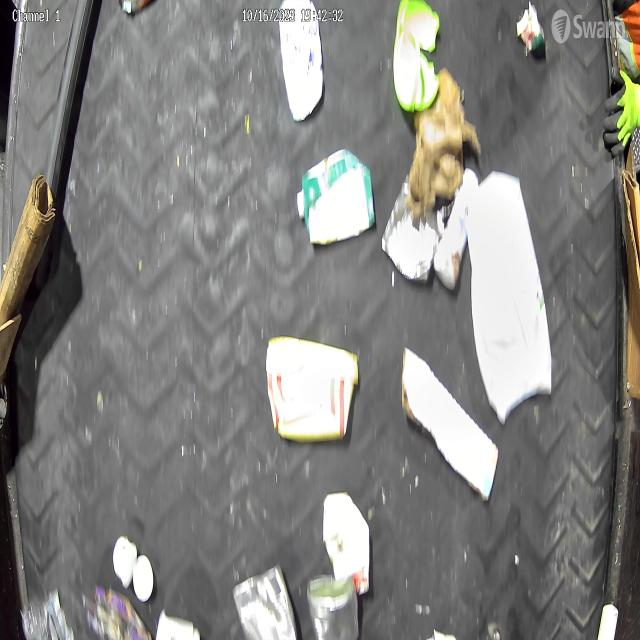can: (380, 172, 444, 280), (232, 561, 299, 640), (305, 572, 361, 640), (514, 0, 545, 52)
milk_jug: (466, 170, 553, 428)
non_white_jug: (266, 336, 359, 440), (296, 151, 374, 247)
